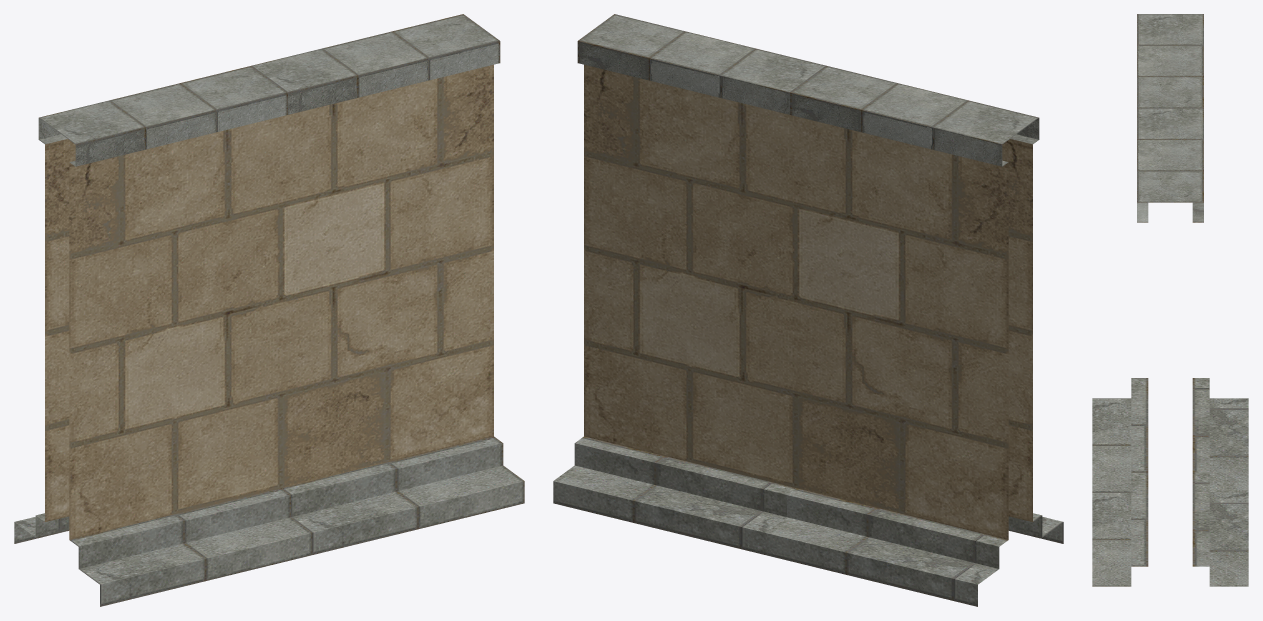
The model's file is wall_plain_2U.fbx.
3 renders of one model, left to right at view 1: azimuth 30°, elevation 25°; view 2: azimuth 150°, elevation 25°; view 3: azimuth 270°, elevation 25°, orthographic. The views are drawn at different scales.
Visible parts, largest first — view 1: wall_plain_2U; view 2: wall_plain_2U; view 3: wall_plain_2U.
Part boxes in pixels (x1,y1,x2,y2): wall_plain_2U: (14, 14, 524, 606); wall_plain_2U: (553, 14, 1063, 606); wall_plain_2U: (1092, 14, 1248, 586).
Bounding box in the file's own units: 200 × 200 × 70.
